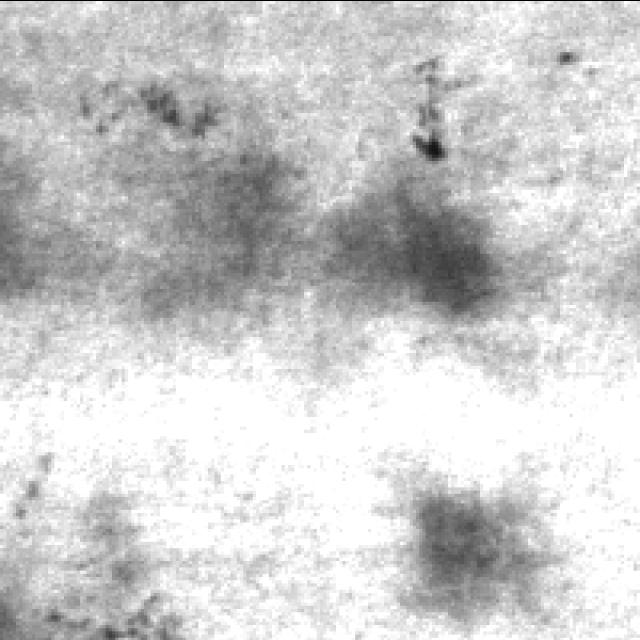patches: (321, 130, 548, 380), (134, 154, 308, 376), (365, 451, 560, 640), (101, 77, 238, 177)
